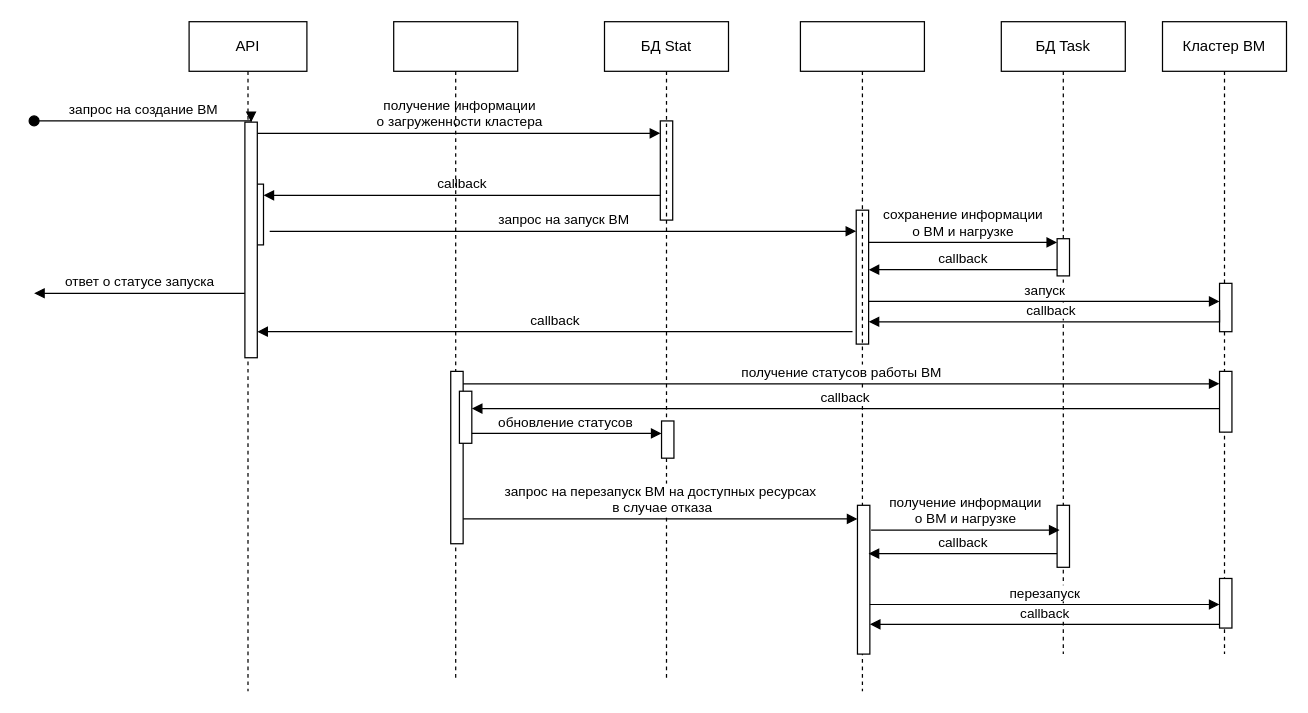
This 1308x713 diagram has some shape labels left out. Each missing label, with the box of its shape:
Checker: (392, 20, 518, 678)
Launcher: (799, 20, 924, 691)
